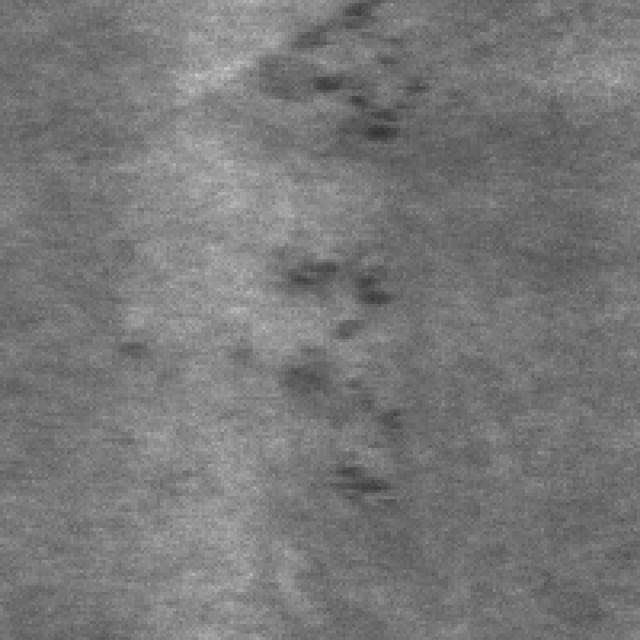rolled-in_scale: (272, 227, 416, 512), (256, 0, 419, 141)
